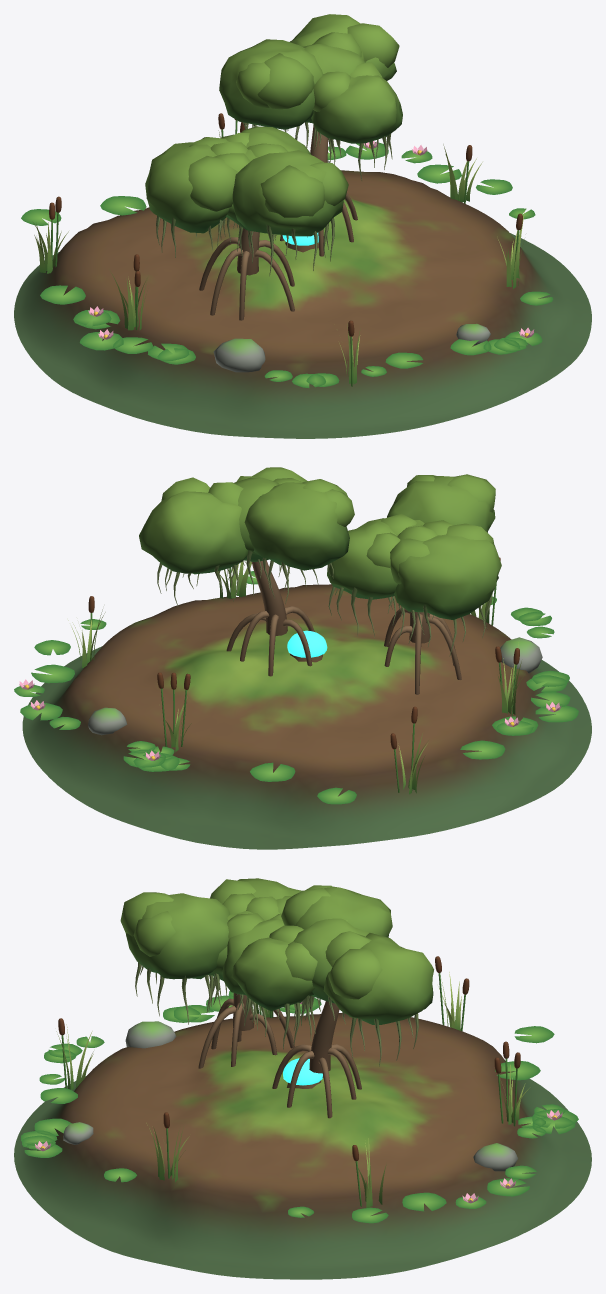
Rendered from island_swamp.glb.
3 renders of one model, top to bottom at view 1: azimuth 30°, elevation 25°; view 2: azimuth 150°, elevation 25°; view 3: azimuth 270°, elevation 25°, orthographic.
Visible parts, largest first — view 1: island_swamp; view 2: island_swamp; view 3: island_swamp.
Part boxes in pixels (x1,y1,x2,y2): island_swamp: [14, 14, 591, 438]; island_swamp: [14, 467, 591, 849]; island_swamp: [14, 878, 591, 1279].
Size of the model in its own units: 13.57 by 6.78 by 13.57.
